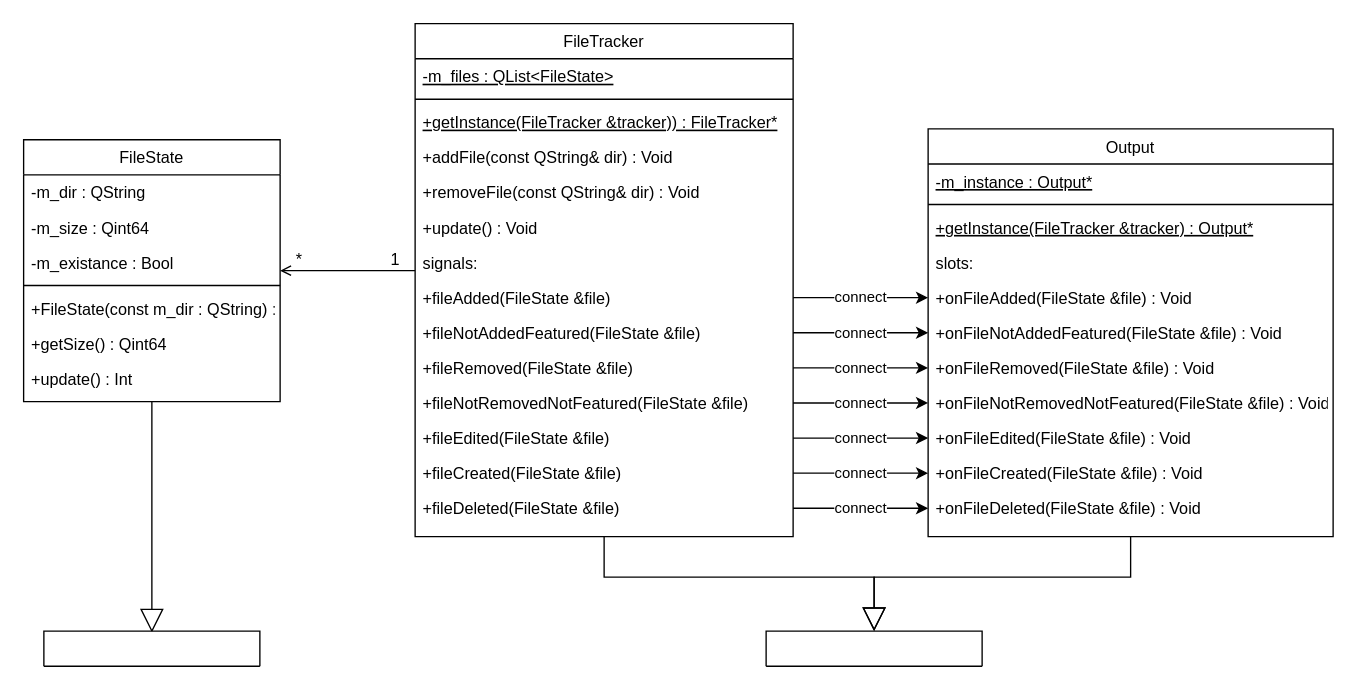
Some shapes in this 1357 by 690 pixel diagram are drawn without their labels. Here are the shapes that lost their labels. From the top down, the box of each, then its label:
(43, 630, 260, 666): QFileInfo
(765, 630, 982, 666): QObject
